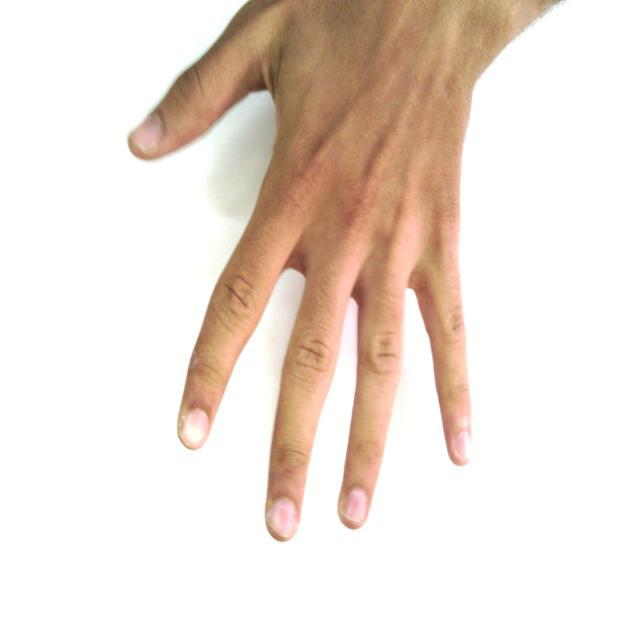Fingernail: (131, 115, 162, 151), (182, 408, 209, 448), (270, 499, 297, 537), (345, 487, 367, 521), (454, 432, 468, 462)
